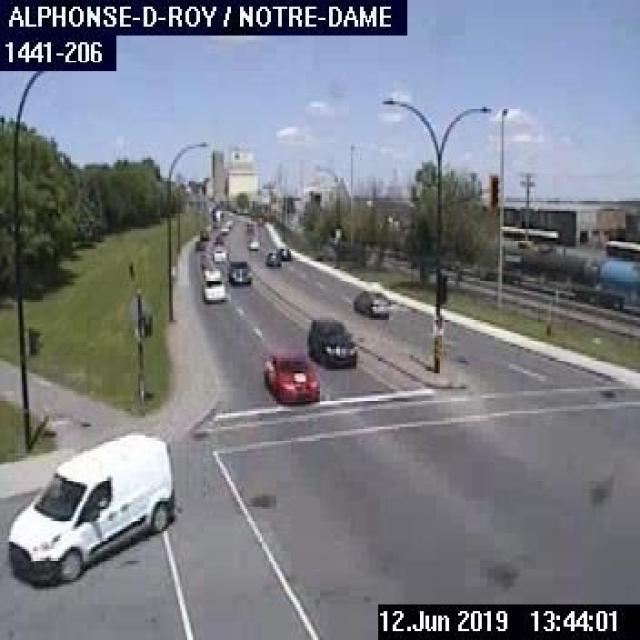vehicle: (2, 431, 174, 585), (302, 313, 358, 370), (258, 354, 317, 402), (349, 287, 391, 320), (225, 257, 251, 290), (200, 267, 224, 302), (212, 245, 228, 262), (275, 244, 288, 260), (262, 252, 279, 264), (244, 238, 258, 252)
